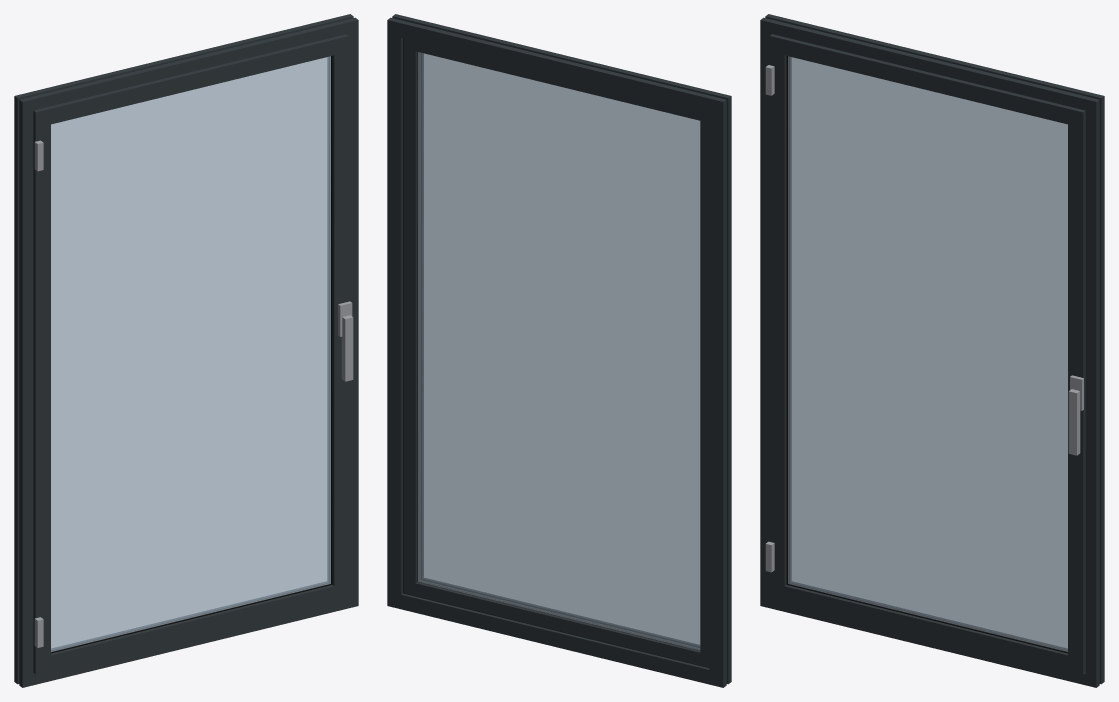
File: slimline-38.glb
3 renders of one model, left to right at view 1: azimuth 30°, elevation 25°; view 2: azimuth 150°, elevation 25°; view 3: azimuth 330°, elevation 25°, orthographic.
Parts seen in each view (by area): view 1: SlimLine 38; view 2: SlimLine 38; view 3: SlimLine 38.
Boxes of the visible parts, x1,y1,x2,y2 form: SlimLine 38: [14, 14, 358, 687]; SlimLine 38: [387, 14, 731, 687]; SlimLine 38: [760, 14, 1104, 687].
Bounding box in the file's own units: 0.9 × 1.5 × 0.071.
